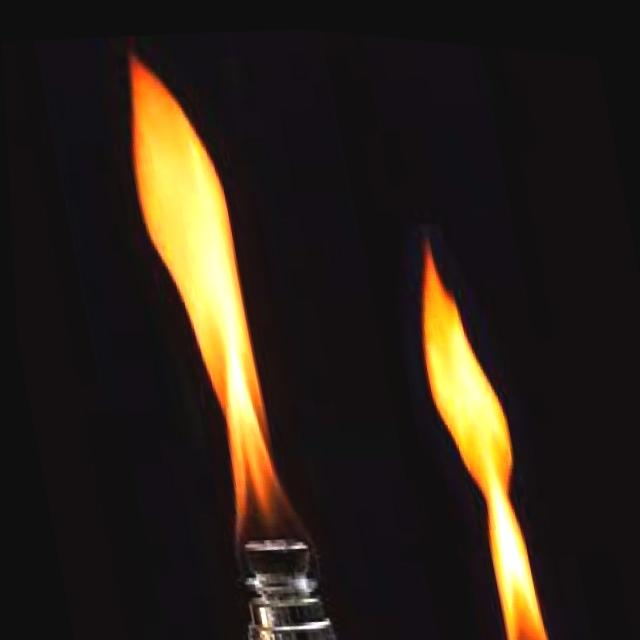helmet: (96, 28, 311, 573), (367, 190, 608, 640)
